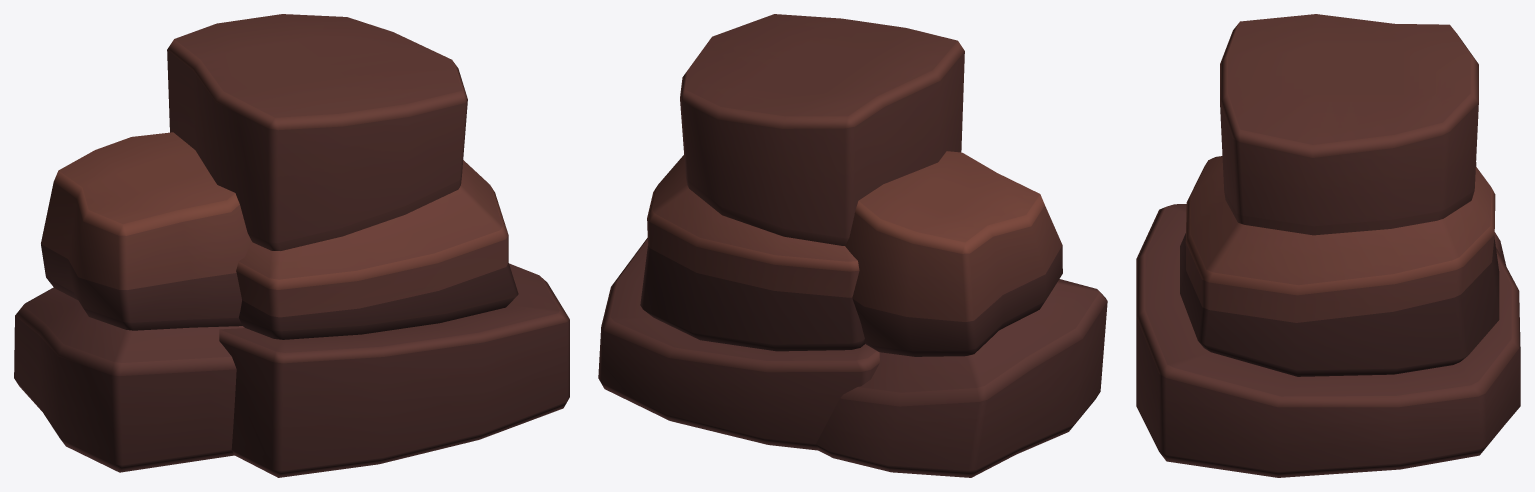
Rendered from rock_formation_09.fbx.
The picture shows the model from 3 angles, left to right: view 1: azimuth 30°, elevation 25°; view 2: azimuth 150°, elevation 25°; view 3: azimuth 270°, elevation 25°; orthographic projection.
Visible parts, largest first — view 1: rock_formation_09; view 2: rock_formation_09; view 3: rock_formation_09.
Boxes of the visible parts, x1=… form: rock_formation_09: x1=14, y1=14, x2=569, y2=477; rock_formation_09: x1=598, y1=14, x2=1107, y2=477; rock_formation_09: x1=1136, y1=14, x2=1520, y2=477.
Bounding box in the file's own units: 665 × 446 × 484.
